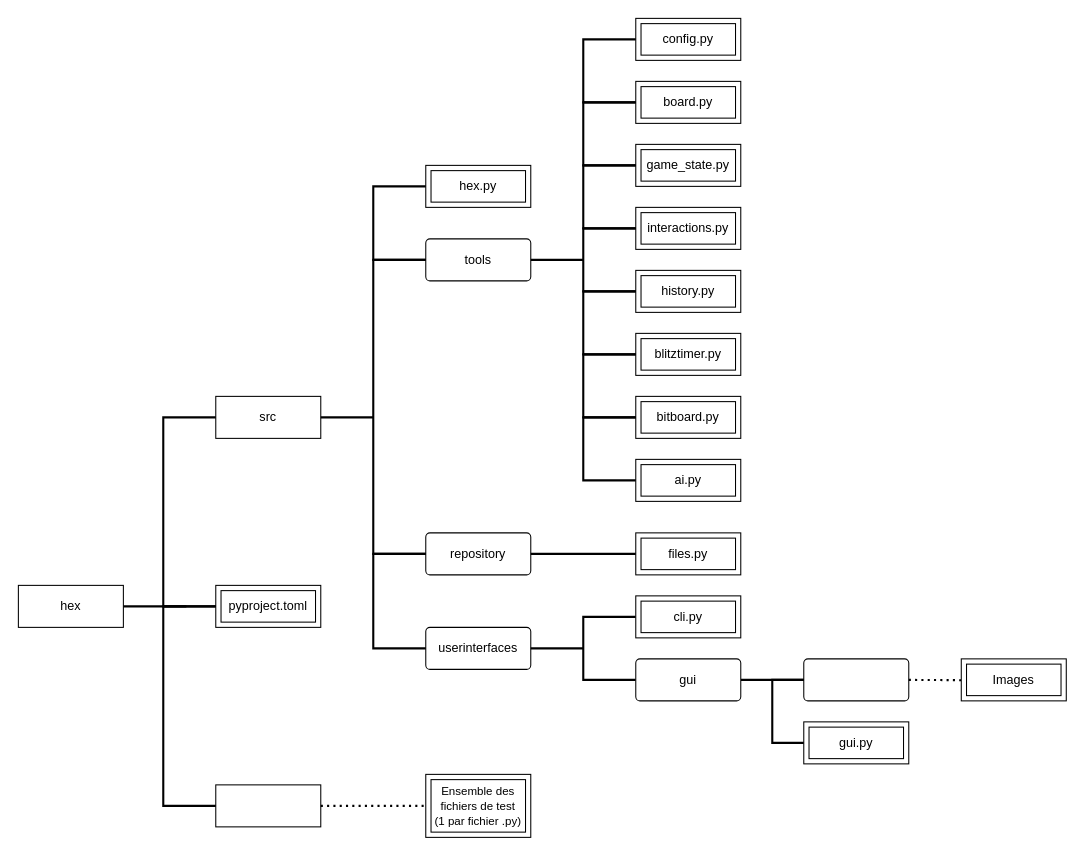
Image size: 1085x856. Some labels were removed from this diagram. The centre of each missing label's shape, as x and y in pixels:
"resources" goes at [856,679].
"test" goes at [268,805].
